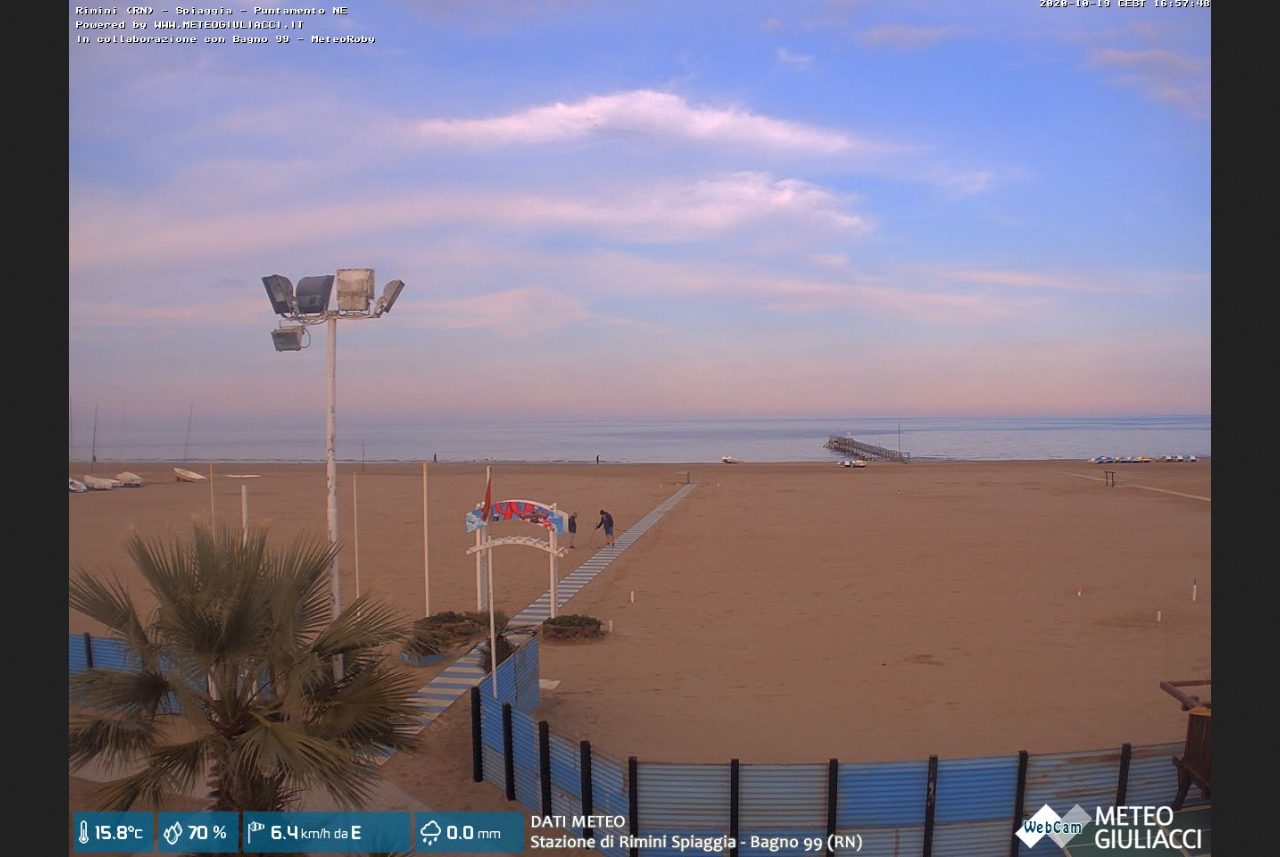no: (478, 466, 496, 525)
